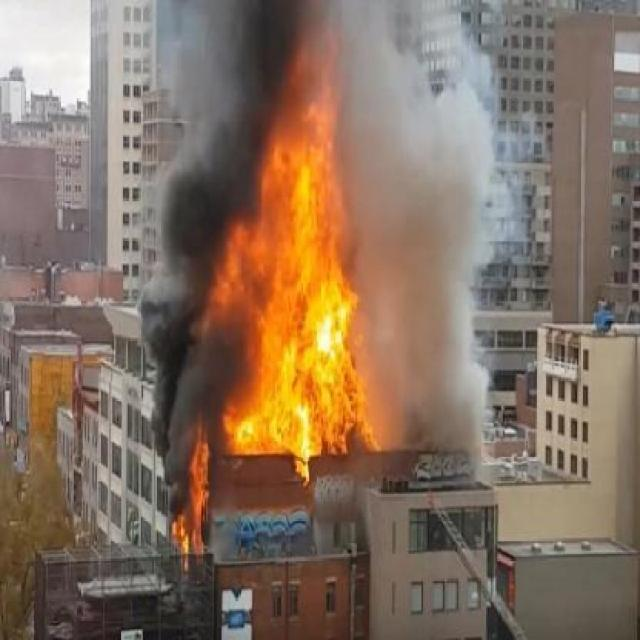Fire: (259, 2, 386, 473), (178, 402, 216, 560)
Smoke: (350, 9, 508, 476), (123, 9, 252, 463)
